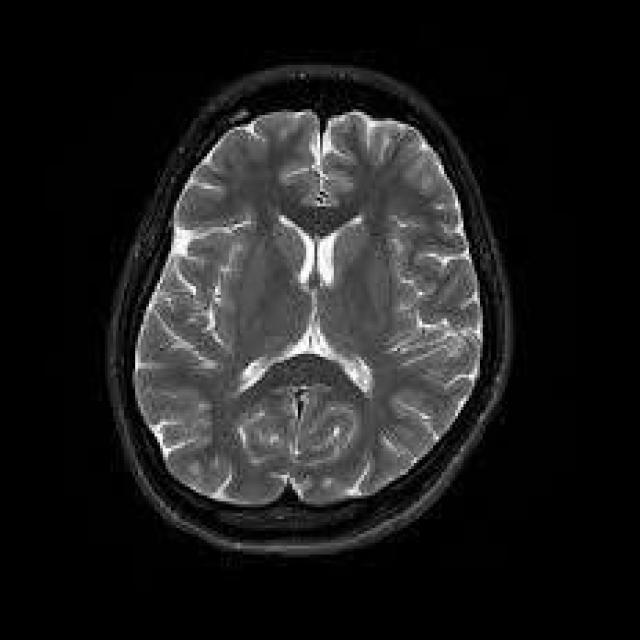no-tumor: (193, 164, 415, 450)
